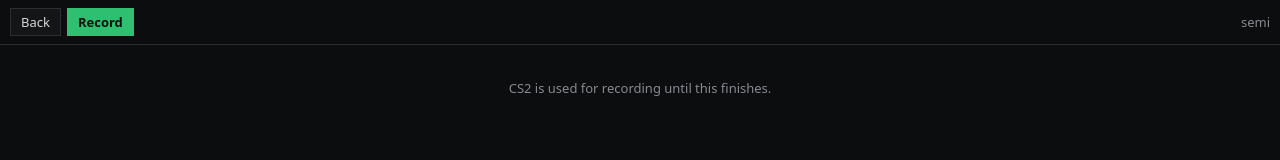
stopping says the current clip is finished first
Click the button "Record" at (100, 22), box 67,8 -> 134,36
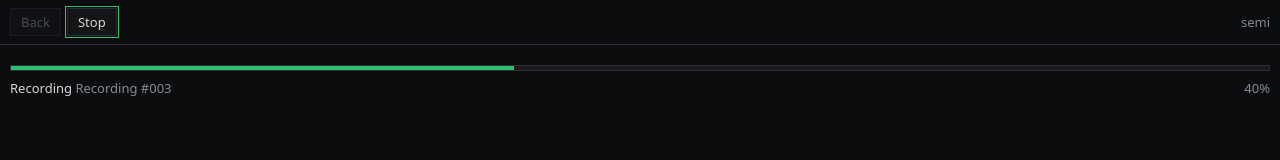
Click the button "Stop" at (92, 22), box 67,8 -> 117,36
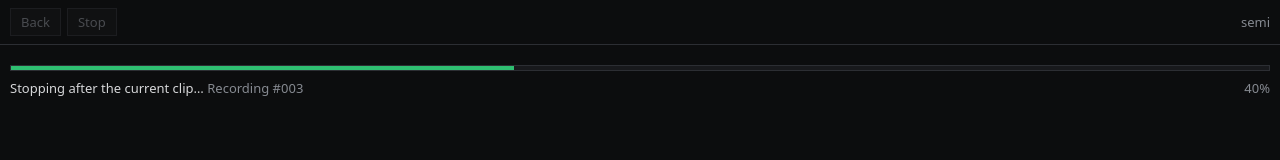
Result: the text "Stopping after the current clip…" is shown at 10,79 -> 204,97
Result: the button "Stop" is disabled at 67,8 -> 117,36
